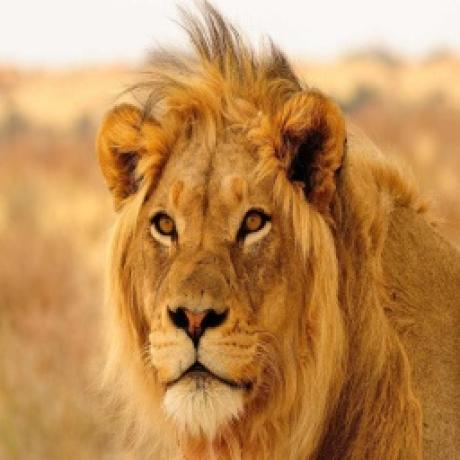Lion: (94, 0, 460, 460)
